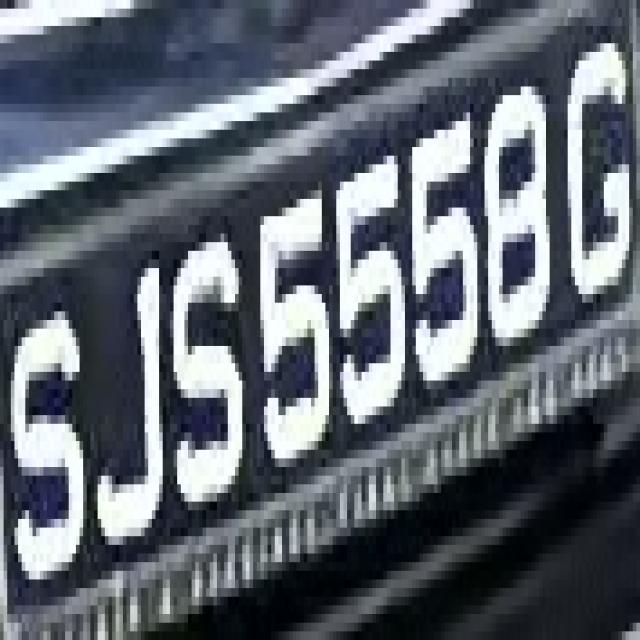5: (250, 182, 336, 510), (398, 95, 484, 389), (333, 130, 405, 467)
8: (474, 78, 553, 363)
G: (553, 17, 633, 355)
J: (80, 216, 174, 580)
S: (166, 208, 257, 536), (0, 294, 90, 614)
